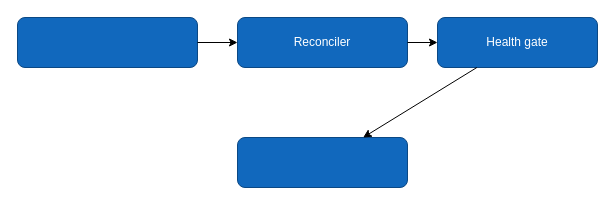
Image size: 615x205. Some labels were removed from this diagram. The centre of each missing label's shape, as x and y in pixels:
Auto-rollback: the point at 322,162
Strategy: the point at 107,42
